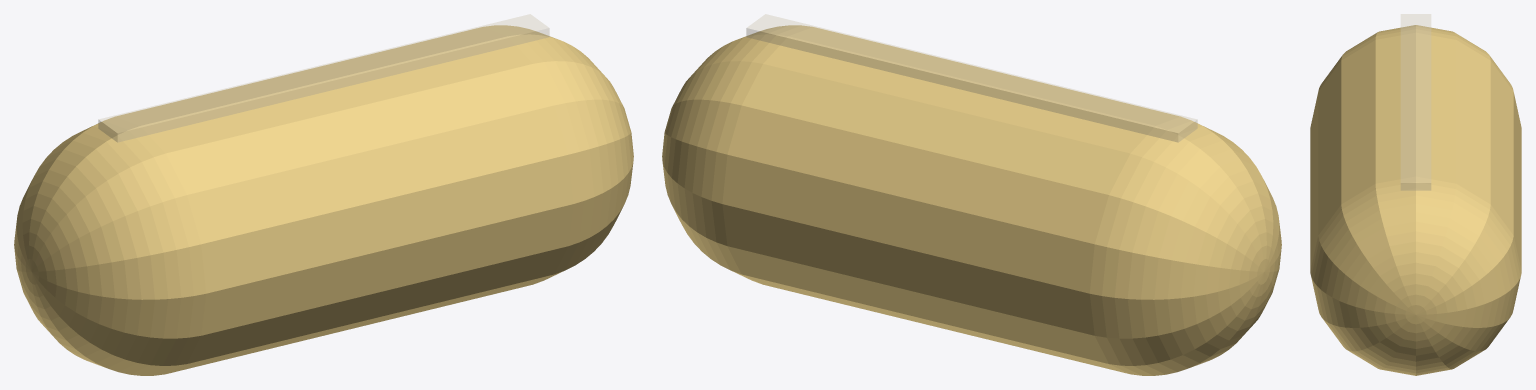
Rendered from opportunity-capsule.glb.
3 renders of one model, left to right at view 1: azimuth 30°, elevation 25°; view 2: azimuth 150°, elevation 25°; view 3: azimuth 270°, elevation 25°, orthographic. The views are drawn at different scales.
Visible parts, largest first — view 1: closed_gold_opportunity_capsule, soft_reveal_slit; view 2: closed_gold_opportunity_capsule, soft_reveal_slit; view 3: closed_gold_opportunity_capsule, soft_reveal_slit.
Boxes of the visible parts, x1,y1,x2,y2 form: closed_gold_opportunity_capsule: [14, 25, 633, 375]; soft_reveal_slit: [98, 14, 549, 142]; closed_gold_opportunity_capsule: [662, 25, 1281, 375]; soft_reveal_slit: [746, 14, 1197, 142]; closed_gold_opportunity_capsule: [1310, 25, 1521, 375]; soft_reveal_slit: [1401, 14, 1430, 190].
Size of the model in its own units: 2.3 by 0.9269 by 0.8988.
